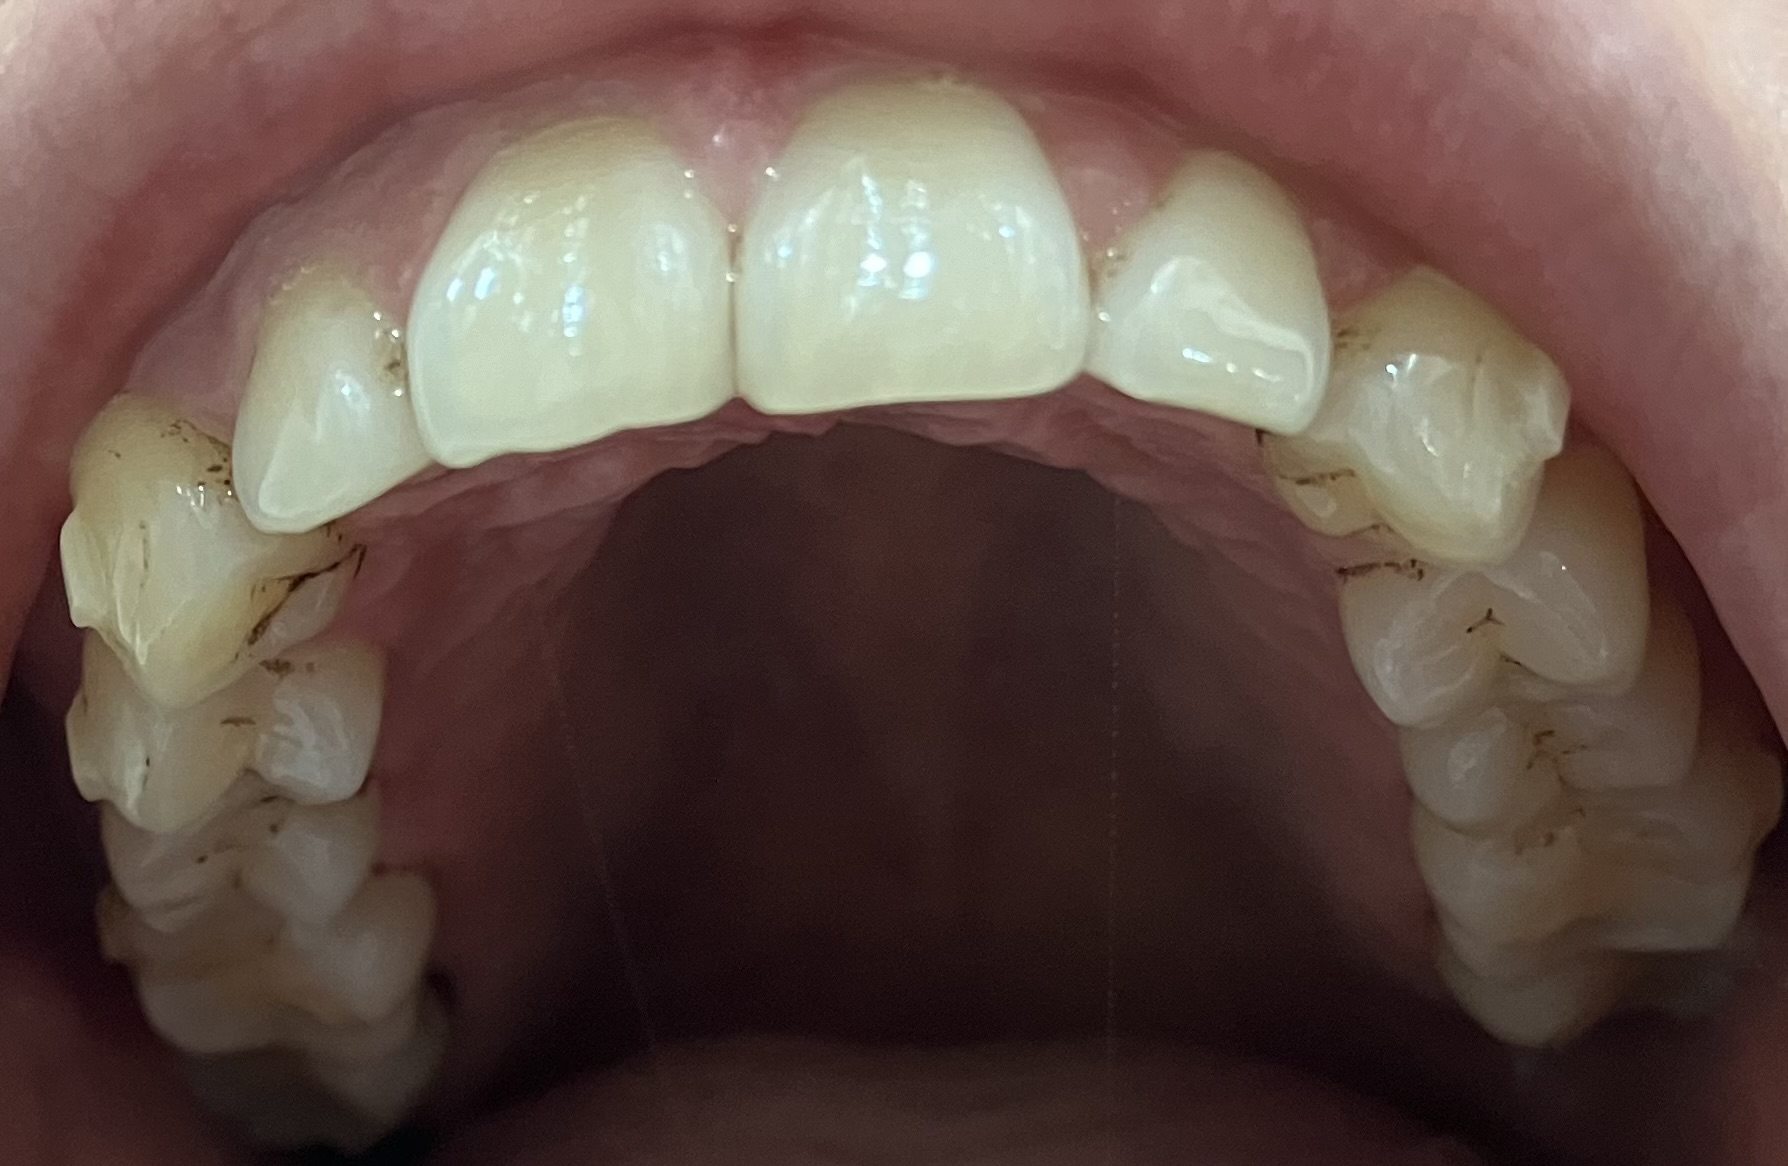teeth: (736, 73, 1091, 411), (412, 110, 736, 459), (1273, 266, 1569, 559), (72, 398, 354, 699), (1345, 450, 1638, 725), (1091, 156, 1331, 430), (229, 266, 423, 525)
